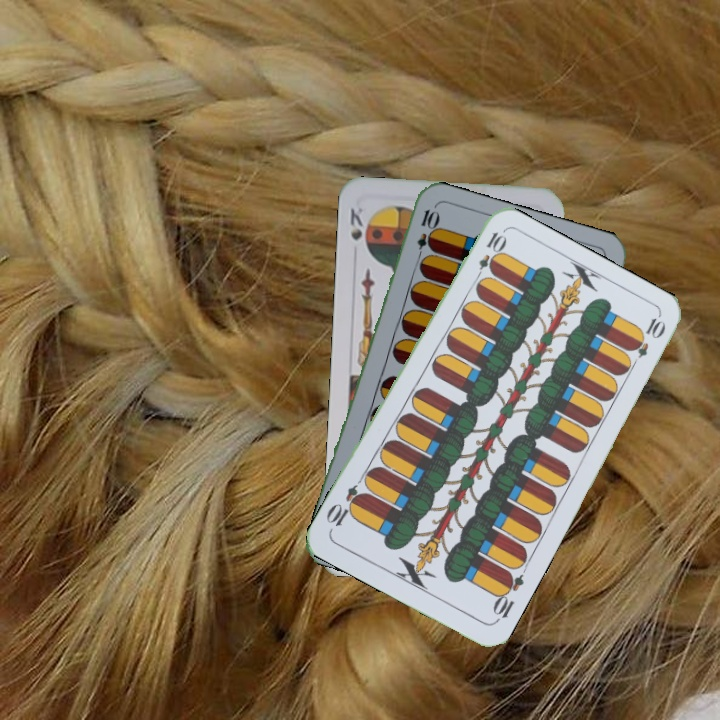E10: (488, 567, 527, 625), (471, 228, 507, 284), (412, 205, 439, 264)
SK: (346, 203, 366, 243)
